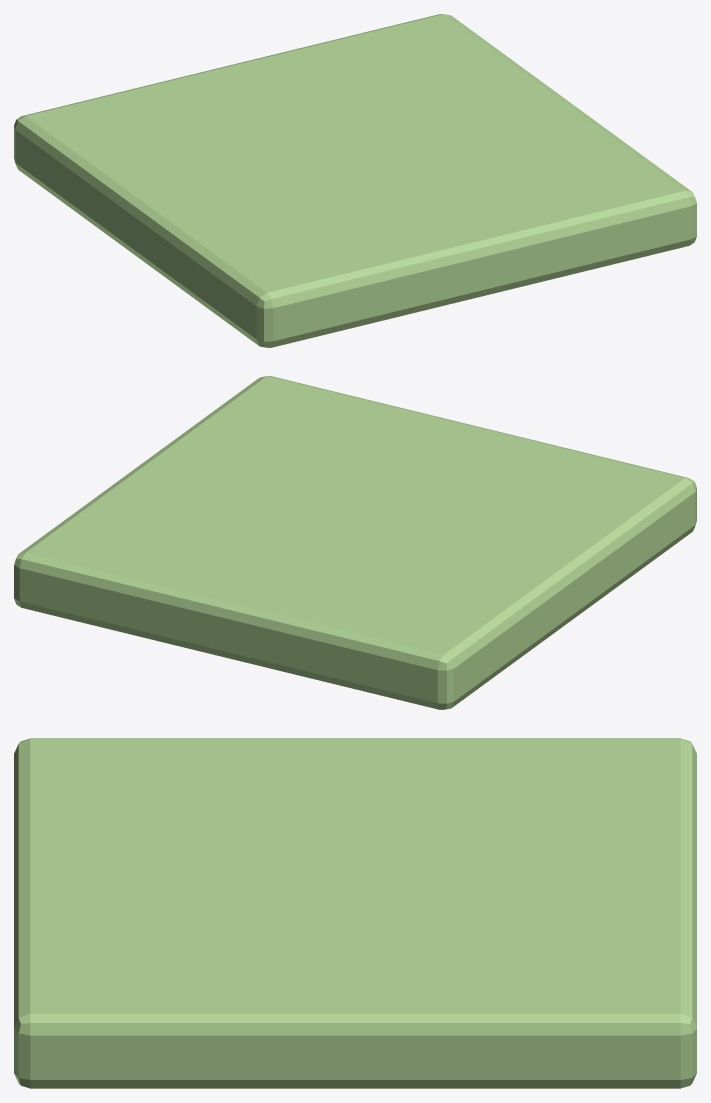
Rendered from grass_tile.glb.
3 views of the same model, one above another, from view 1: azimuth 30°, elevation 25°; view 2: azimuth 150°, elevation 25°; view 3: azimuth 270°, elevation 25° (orthographic). The views are drawn at different scales.
Visible parts, largest first — view 1: tile; view 2: tile; view 3: tile.
Boxes of the visible parts, x1=… form: tile: x1=14, y1=14, x2=696, y2=347; tile: x1=14, y1=376, x2=696, y2=709; tile: x1=14, y1=738, x2=696, y2=1088.
Size of the model in its own units: 1 by 0.12 by 1.
